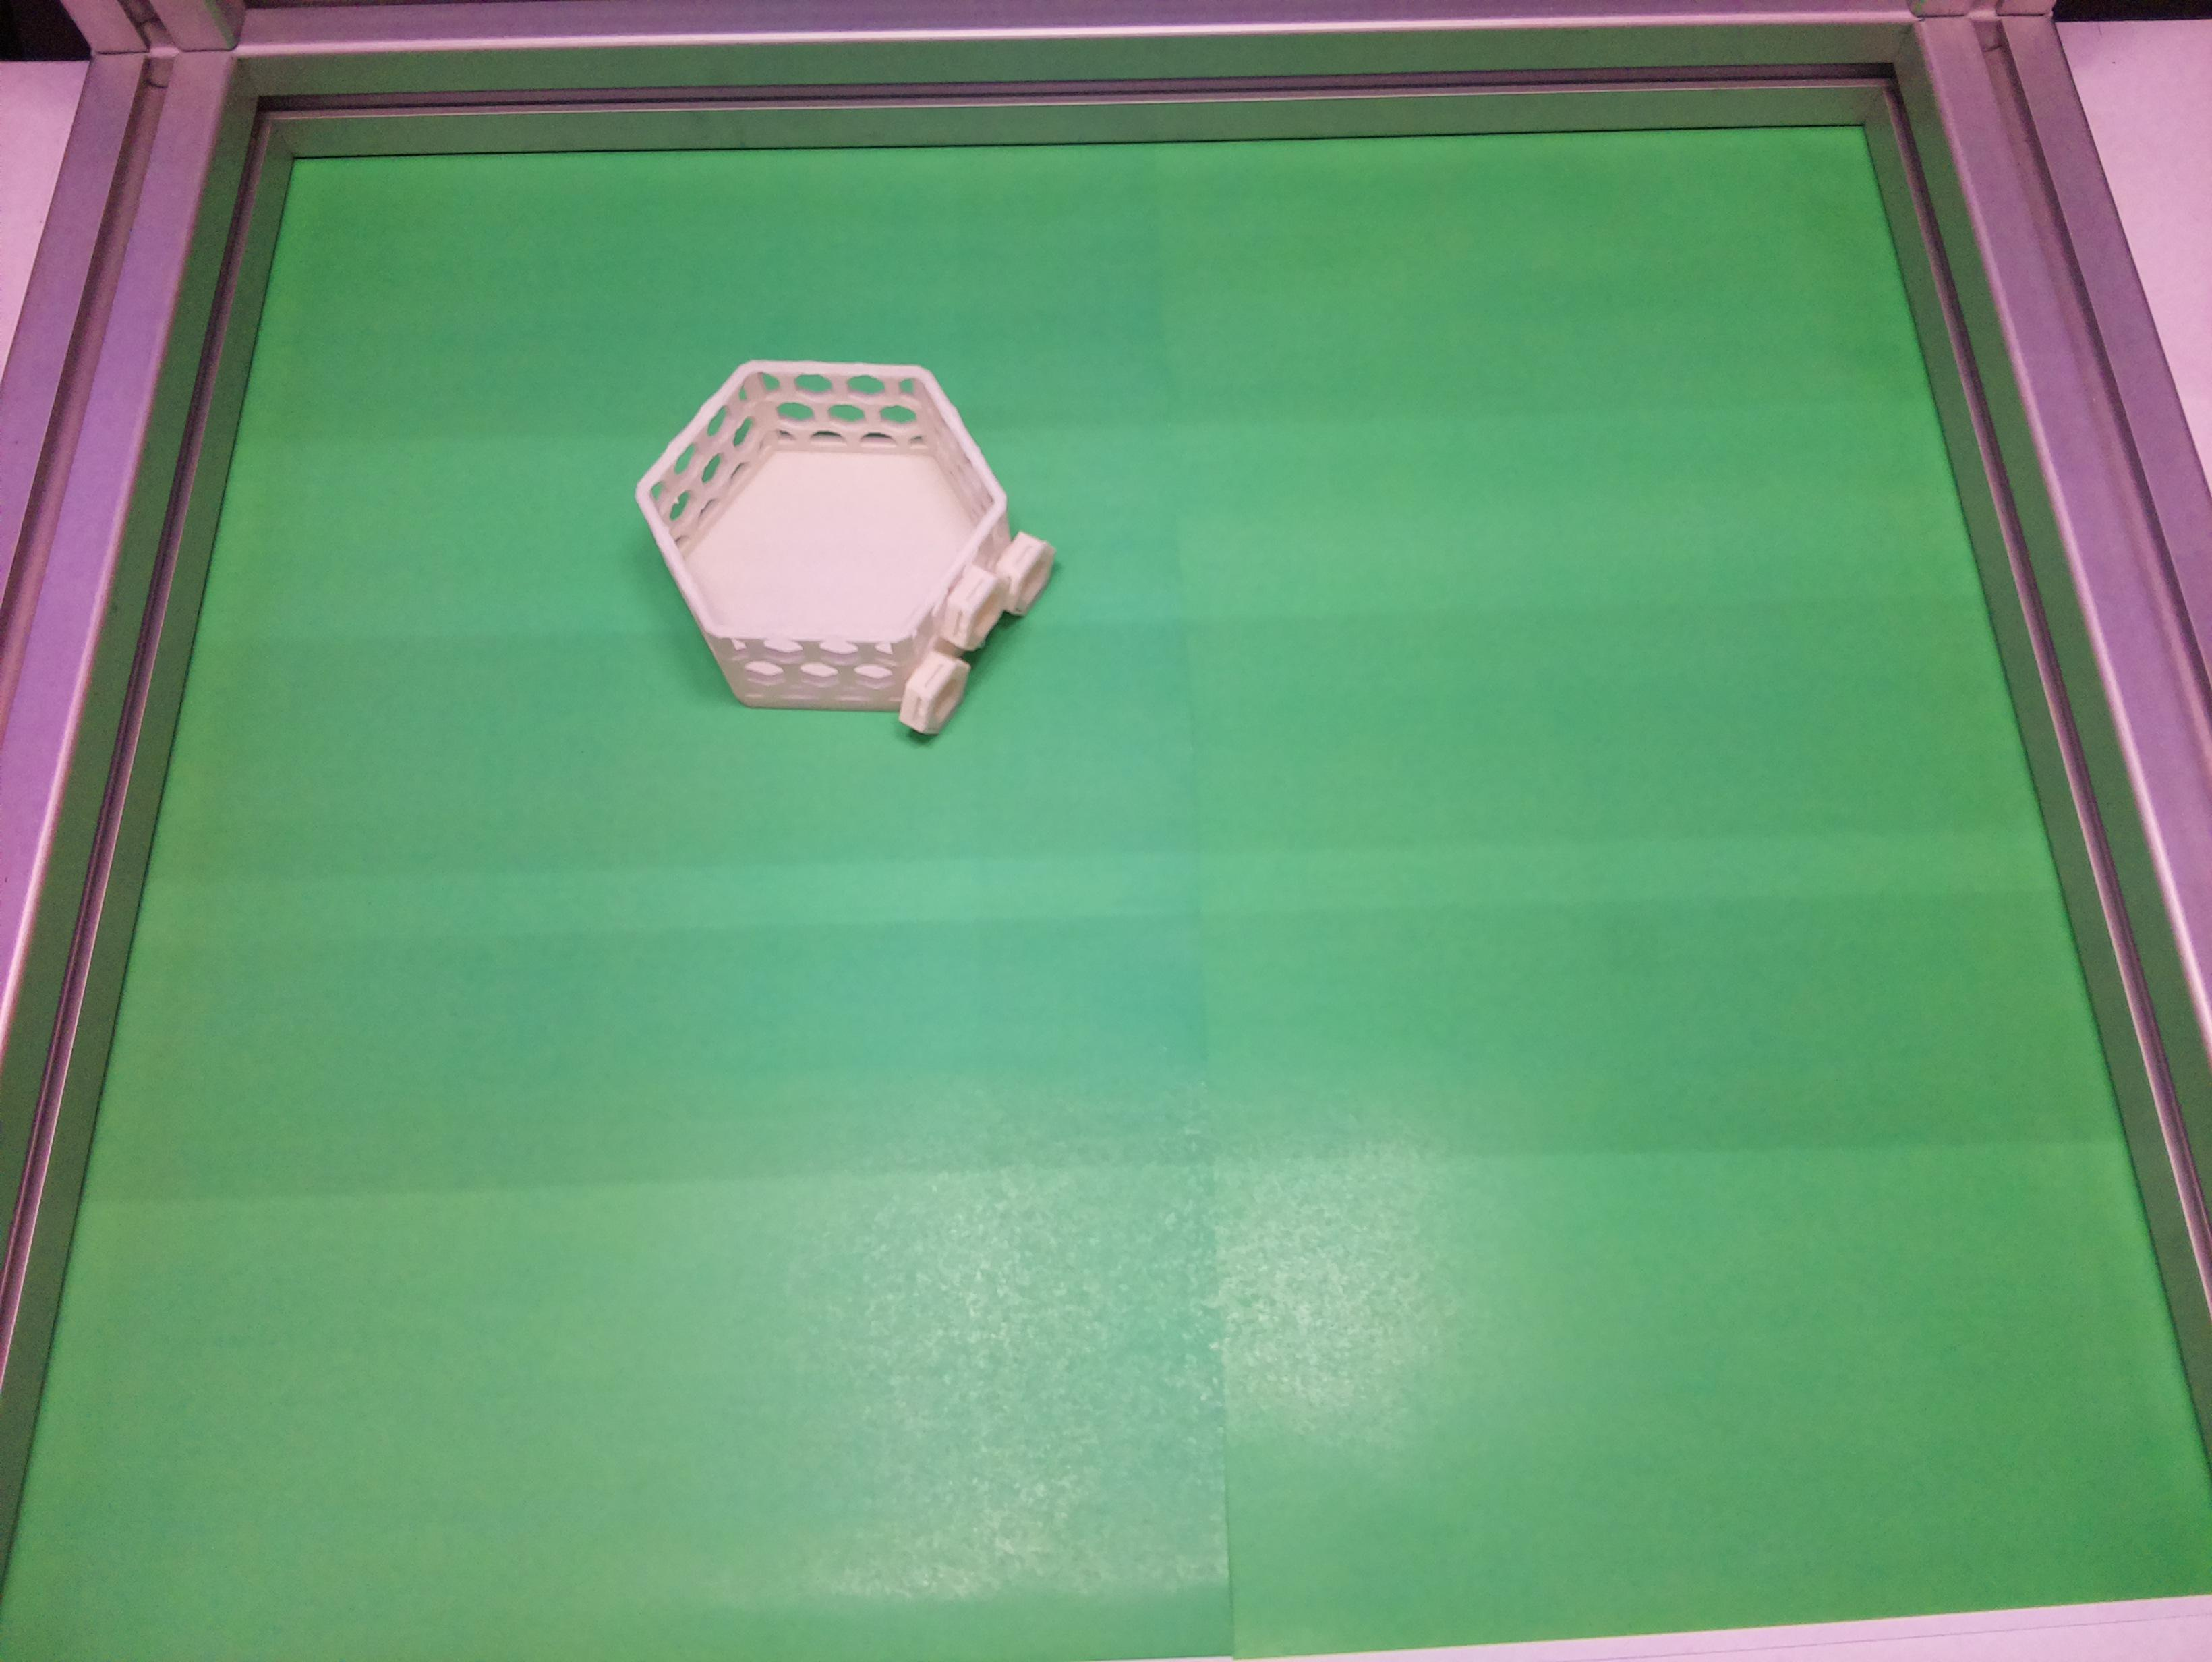bottle_holder: (583, 278, 1102, 815)
